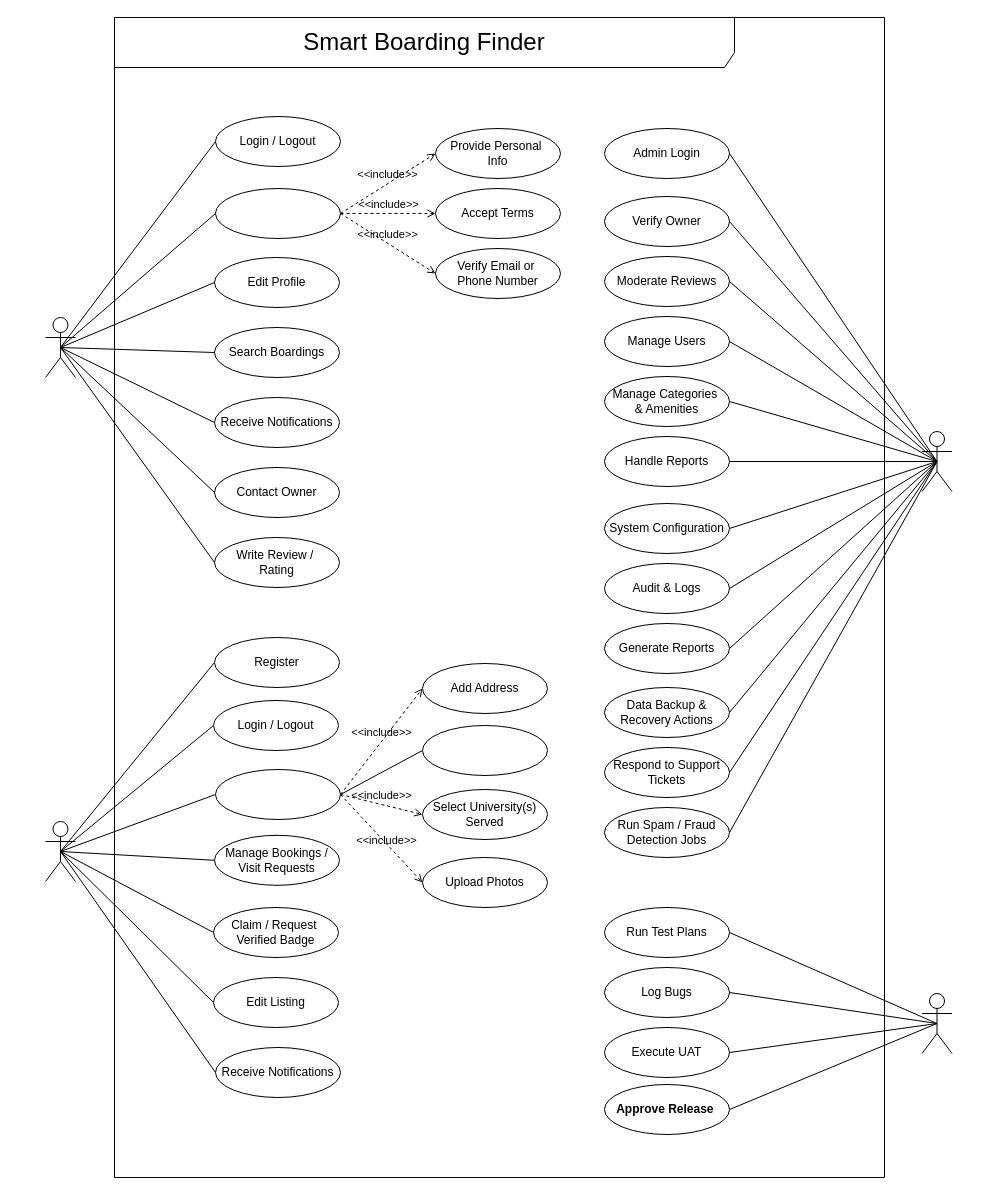
The diagram is 1004 pixels wide and 1195 high, and some of its shapes have lost their labels. The shapes that lost their labels are listed below. From the top down, each one's box as (x1, y1, x2, y2) in pixels, then its label:
(214, 188, 340, 238): Register Account
(44, 316, 76, 378): Student
(921, 430, 952, 492): Admin / Moderator
(422, 724, 548, 776): Set Gender Preference
(214, 768, 340, 820): Create New Listing
(44, 820, 76, 882): Boarding Owner
(921, 992, 952, 1054): Tester
